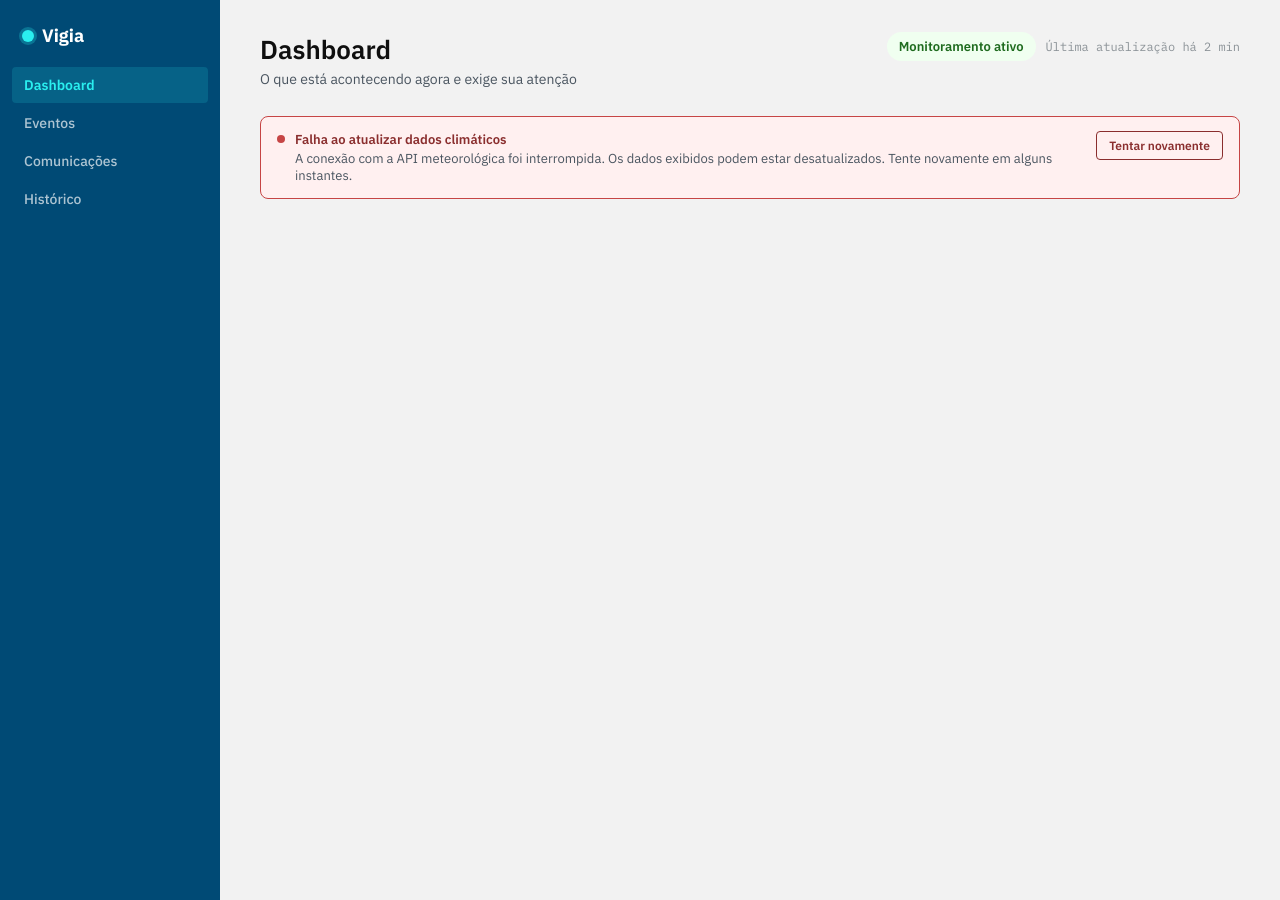
Test: App shell navigation › navigates to the Eventos placeholder and shows the monitoring status pill
This screenshot has width=1280, height=900.
Click the link "Eventos".
click(50, 123)  # box [24, 114, 75, 132]
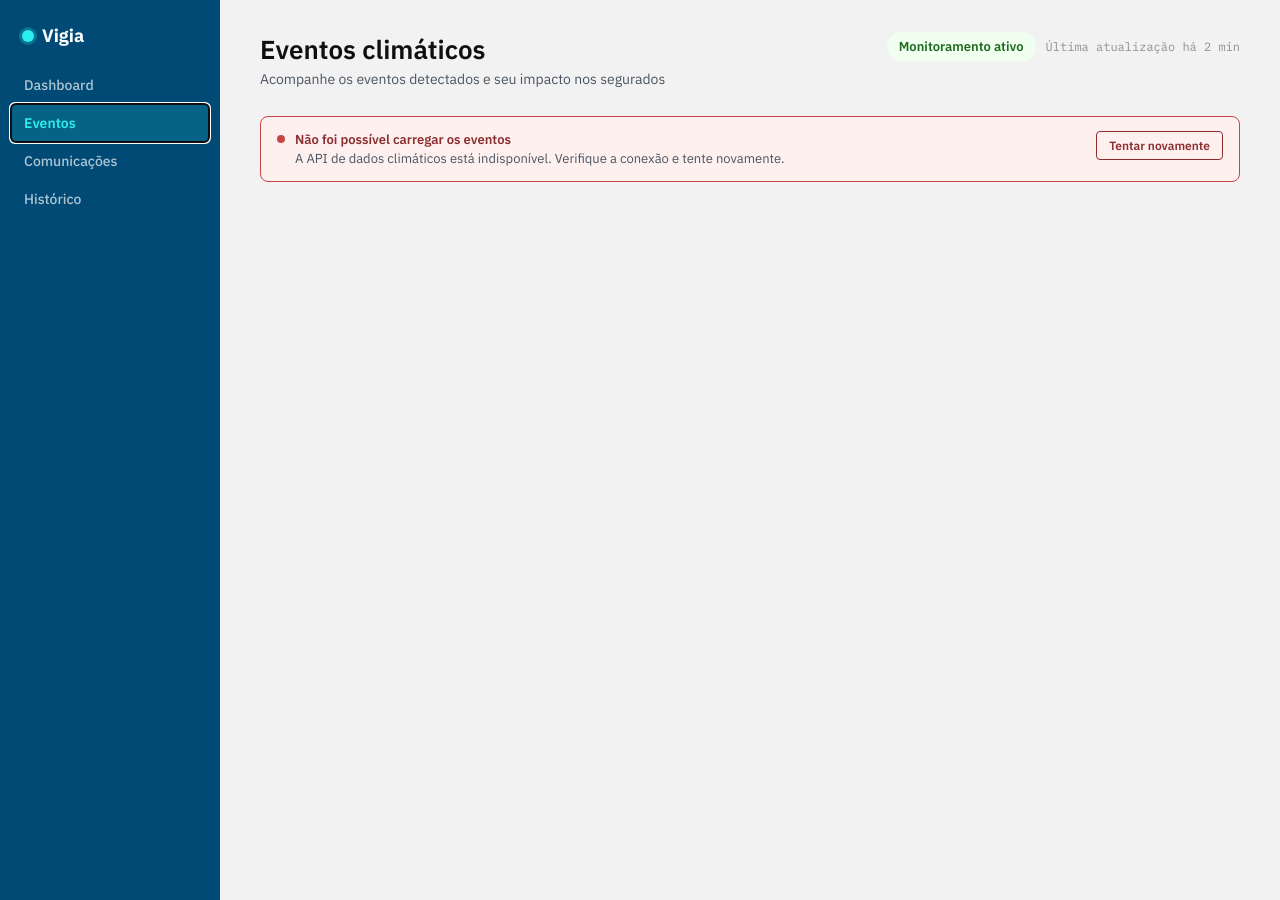
Expected: the text "Monitoramento ativo" is shown, [887, 32, 1036, 61]
Expected: the heading "Eventos climáticos" is shown, [260, 32, 486, 66]
